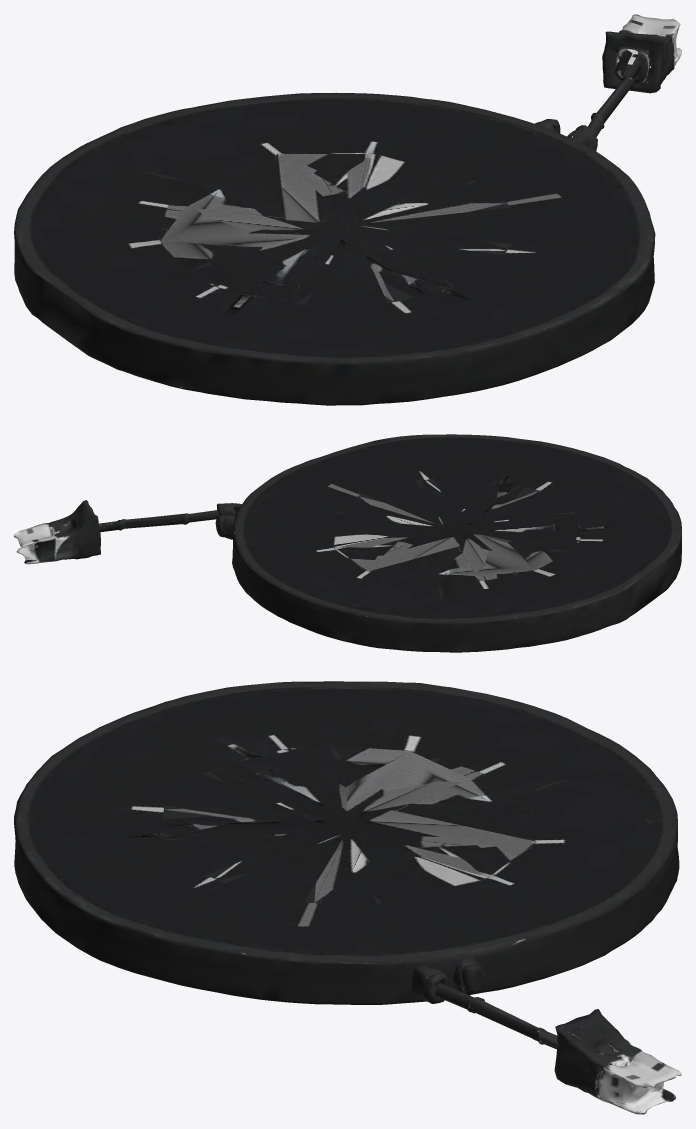
File: DEMO-P033.glb
3 views of the same model, one above another, from view 1: azimuth 30°, elevation 25°; view 2: azimuth 150°, elevation 25°; view 3: azimuth 270°, elevation 25° (orthographic). The views are drawn at different scales.
Bounding box in the file's own units: 1 × 0.0728 × 0.7382.
1 material, 1 textured.
